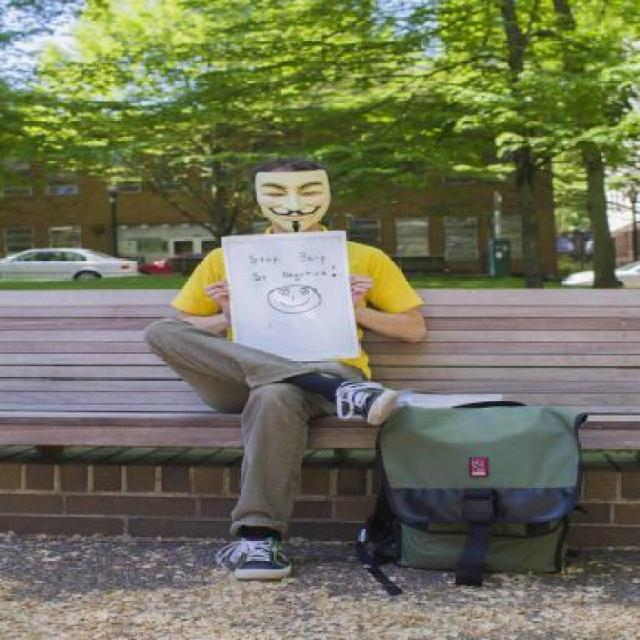backpack: (357, 397, 598, 589)
